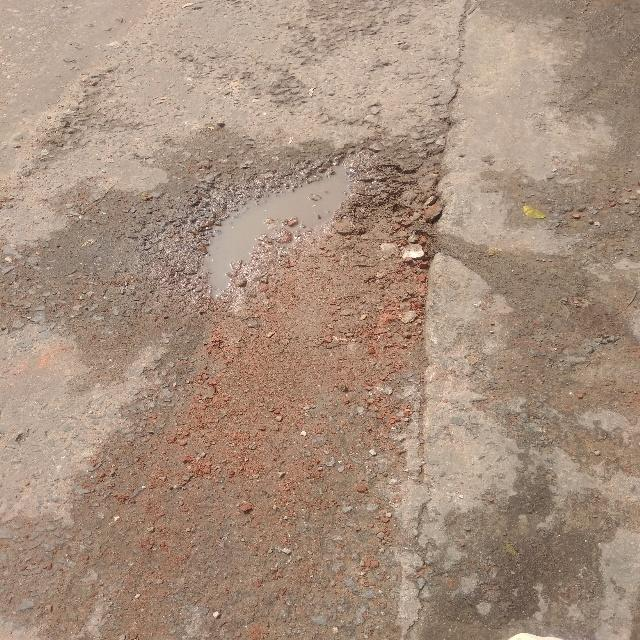Surface Erosion: (26, 16, 546, 535)
